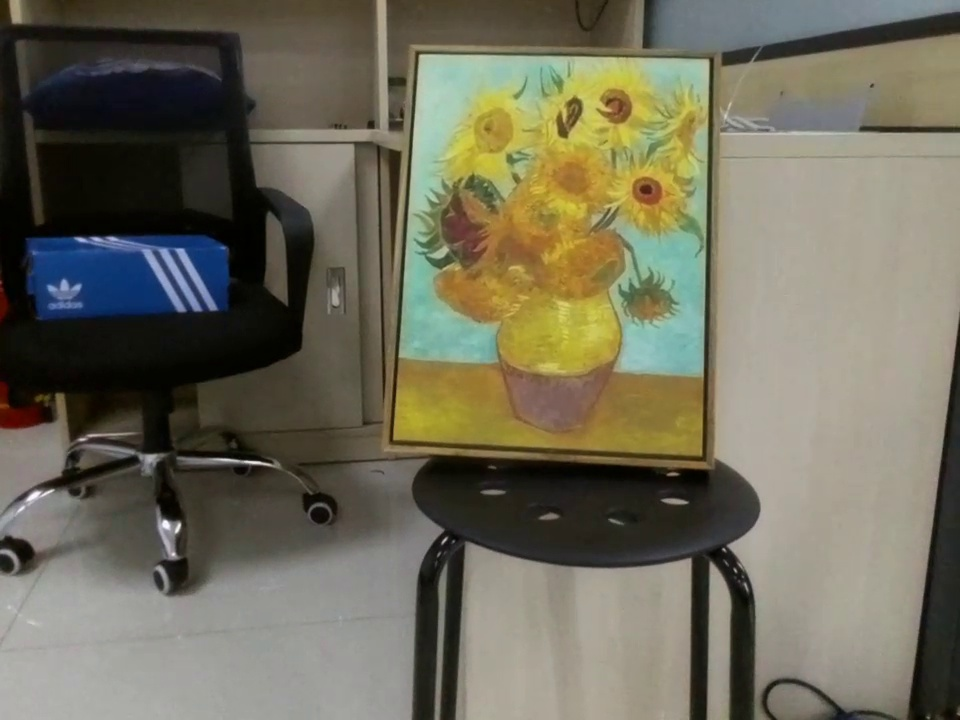painting: (392, 45, 728, 470)
